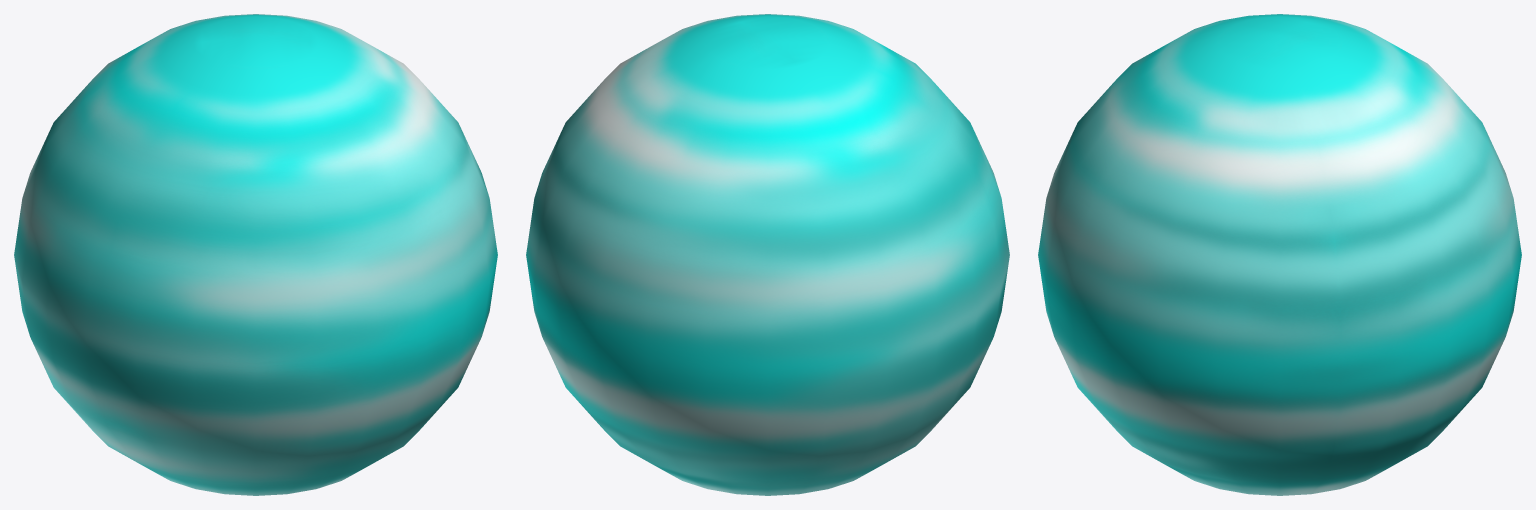
The picture shows the model from 3 angles, left to right: view 1: azimuth 30°, elevation 25°; view 2: azimuth 150°, elevation 25°; view 3: azimuth 270°, elevation 25°; orthographic projection.
Parts seen in each view (by area): view 1: Sphere001; view 2: Sphere001; view 3: Sphere001.
Part boxes in pixels (x1,y1,x2,y2): Sphere001: [14, 14, 497, 495]; Sphere001: [526, 14, 1009, 495]; Sphere001: [1038, 14, 1521, 495].
Size of the model in its own units: 268 by 268 by 268.
1 material, 1 textured.
